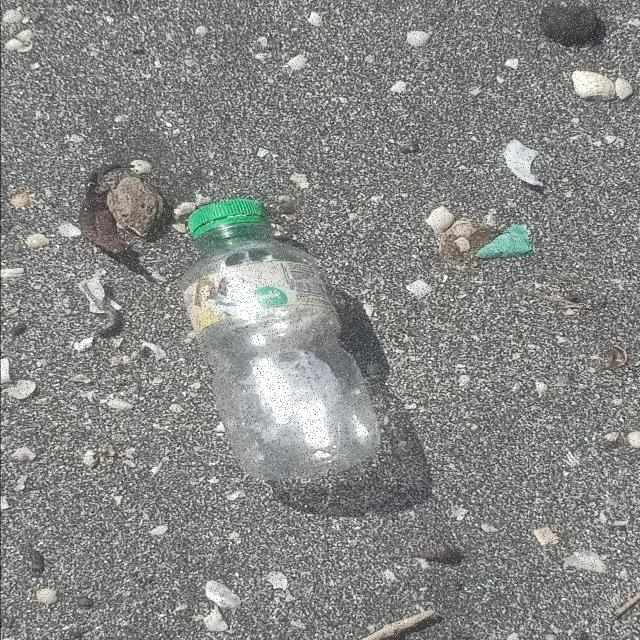plastic_waste: (183, 198, 384, 482)
